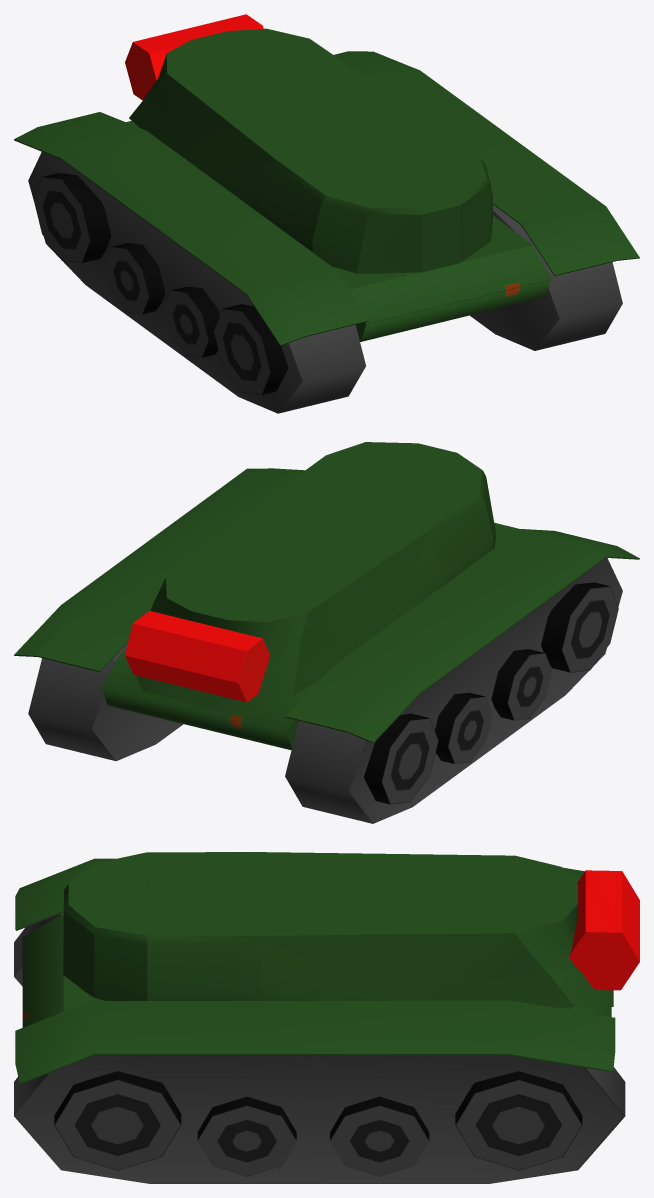
File: sensya_Typ2_body.obj
3 views of the same model, one above another, from view 1: azimuth 30°, elevation 25°; view 2: azimuth 150°, elevation 25°; view 3: azimuth 270°, elevation 25° (orthographic). The views are drawn at different scales.
Visible parts, largest first — view 1: group2 sensha_B pasted__sensha group, group2 sensha_B pCube2, group2 pCube1 sensha_B, pasted__pCylinder3 pasted__group4 group1 group2; view 2: group2 sensha_B pasted__sensha group, group2 sensha_B pCube2, pasted__pCylinder3 pasted__group4 group1 group2, group2 pCube1 sensha_B; view 3: group2 sensha_B pasted__sensha group, group2 sensha_B pCube2, pasted__pCylinder3 pasted__group4 group1 group2, group2 pCube1 sensha_B.
Boxes of the visible parts, x1,y1,x2,y2 form: group2 sensha_B pasted__sensha group: (14,51,639,413); group2 sensha_B pCube2: (129,28,492,273); group2 pCube1 sensha_B: (126,120,551,341); pasted__pCylinder3 pasted__group4 group1 group2: (125,14,263,100); group2 sensha_B pasted__sensha group: (14,468,639,823); group2 sensha_B pCube2: (136,442,496,715); pasted__pCylinder3 pasted__group4 group1 group2: (125,611,270,702); group2 pCube1 sensha_B: (102,522,520,750); group2 sensha_B pasted__sensha group: (14,858,625,1183); group2 sensha_B pCube2: (63,852,613,1007); pasted__pCylinder3 pasted__group4 group1 group2: (569,870,639,990); group2 pCube1 sensha_B: (22,914,611,1027).
Size of the model in its own units: 2.1 by 1.01 by 2.84.
1 material, 1 textured.
